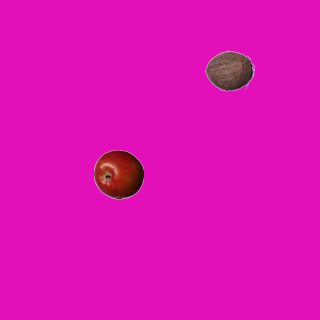Apple Braeburn: (93, 149, 143, 199)
Cocos: (204, 45, 254, 95)
